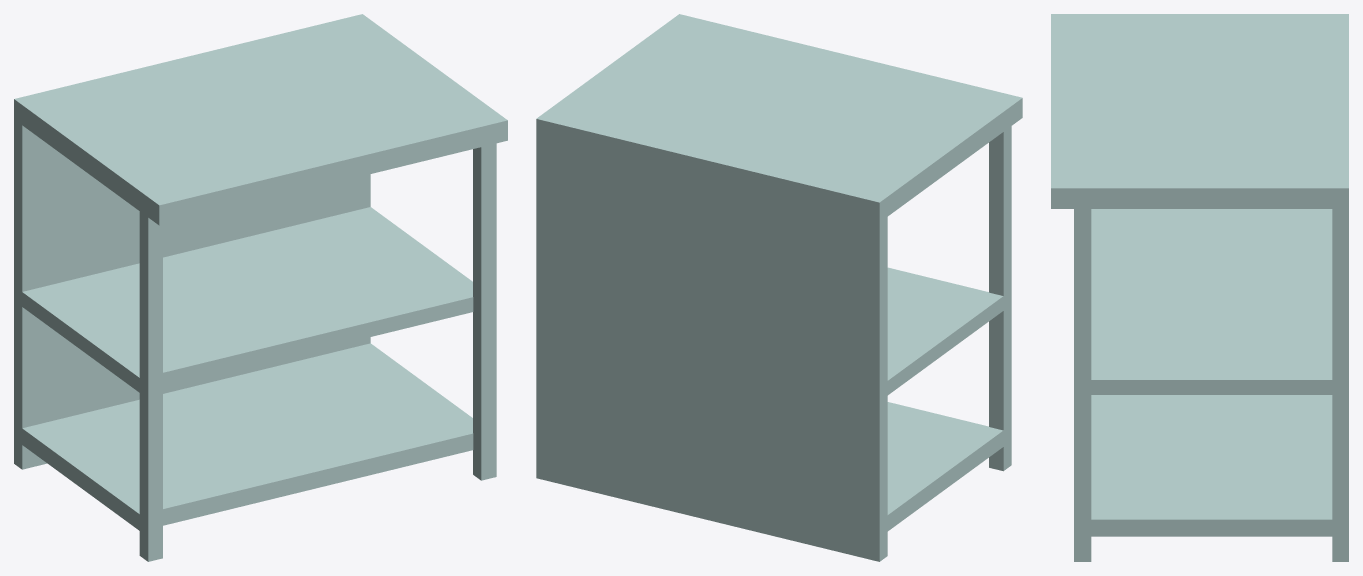
The model's file is CounterBasic02Blue.fbx.
3 renders of one model, left to right at view 1: azimuth 30°, elevation 25°; view 2: azimuth 150°, elevation 25°; view 3: azimuth 270°, elevation 25°, orthographic. The views are drawn at different scales.
Visible parts, largest first — view 1: pCube2; view 2: pCube2; view 3: pCube2.
Part boxes in pixels (x1,y1,x2,y2): pCube2: [14, 14, 507, 561]; pCube2: [536, 14, 1022, 561]; pCube2: [1051, 14, 1348, 561].
Bounding box in the file's own units: 900 × 900 × 650.
